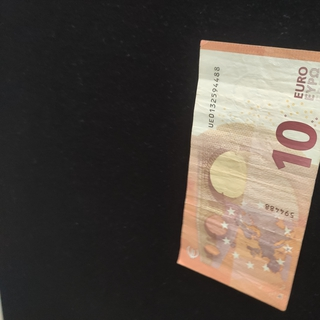10EUROBack: (175, 38, 320, 312)
